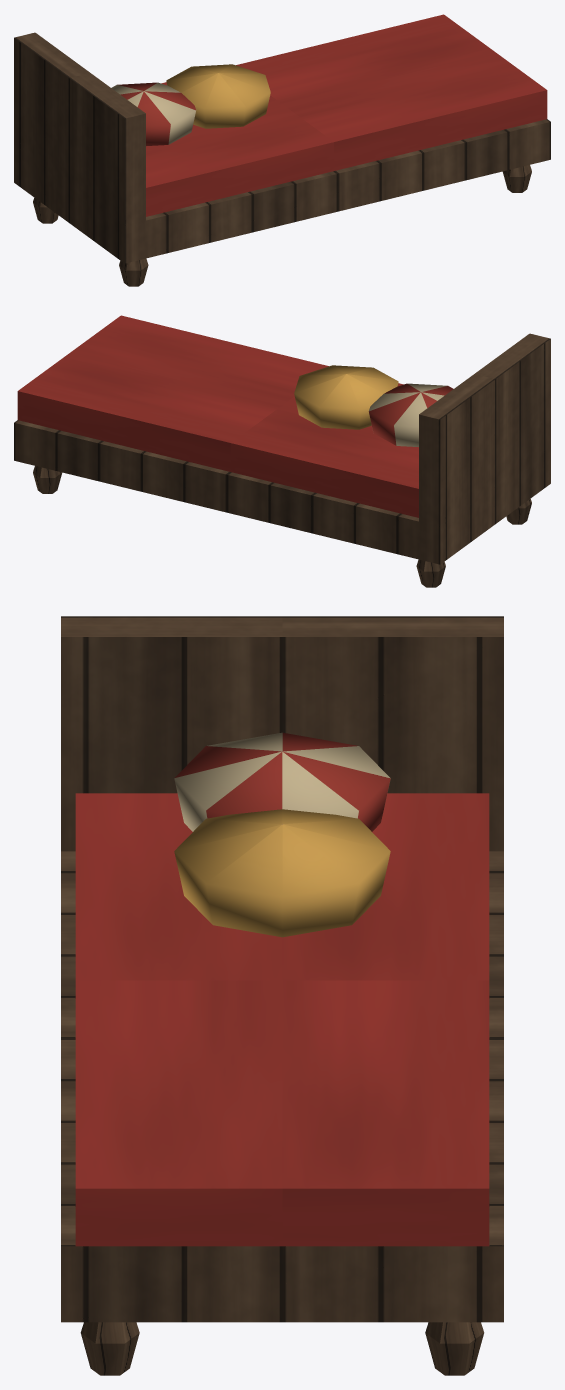
The model's file is Daybed_1.gltf.
The picture shows the model from 3 angles, top to bottom: view 1: azimuth 30°, elevation 25°; view 2: azimuth 150°, elevation 25°; view 3: azimuth 270°, elevation 25°; orthographic projection. The views are drawn at different scales.
Parts seen in each view (by area): view 1: Daybed_1; view 2: Daybed_1; view 3: Daybed_1.
Part boxes in pixels (x1,y1,x2,y2): Daybed_1: (14,14,550,286); Daybed_1: (14,315,550,587); Daybed_1: (61,616,503,1375).
Bounding box in the file's own units: 2 × 0.8 × 0.9.
Materials: 4 (4 with a texture image).
